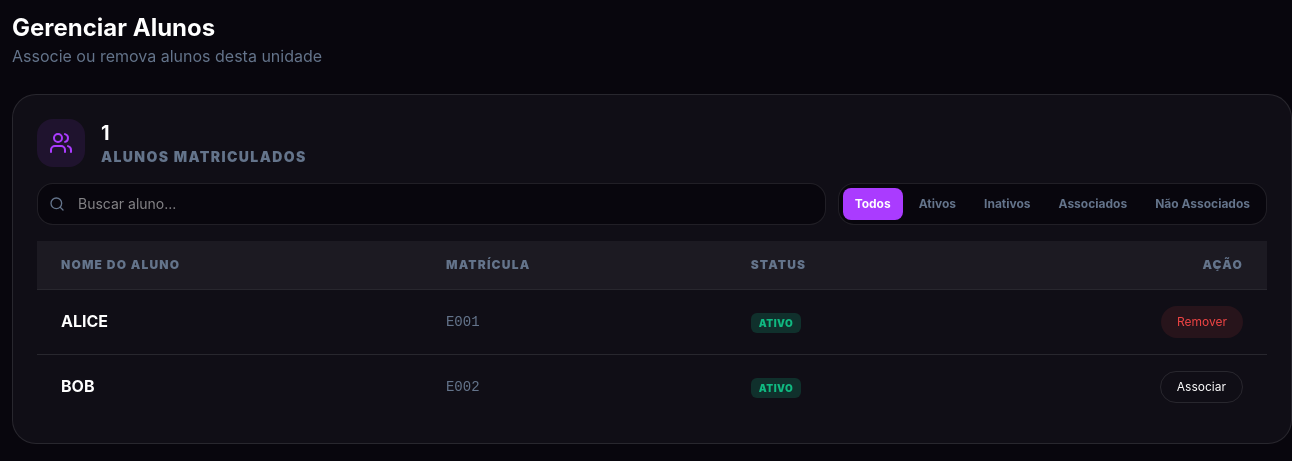
Scenario: SchoolAlunos › filter "Não Associados" shows only non-associated students
Expected: the text "Bob" is shown, x1=37 y1=354 x2=422 y2=419
Click the button "Não Associados": click(1203, 204) x1=1143 y1=188 x2=1262 y2=220
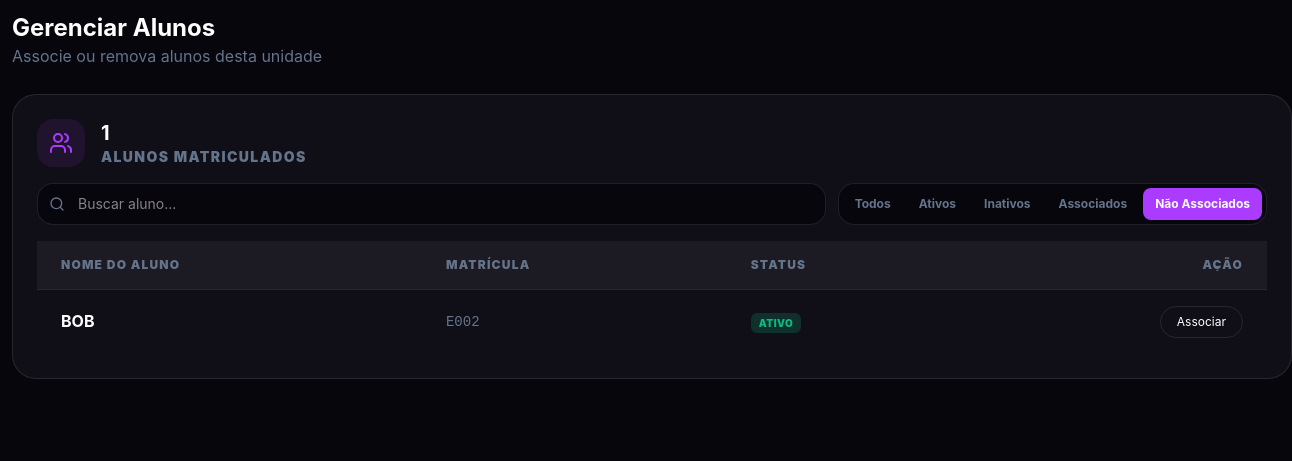
Expected: the text "Bob" is shown, x1=37 y1=289 x2=422 y2=354
Now the text "Alice" is gone
